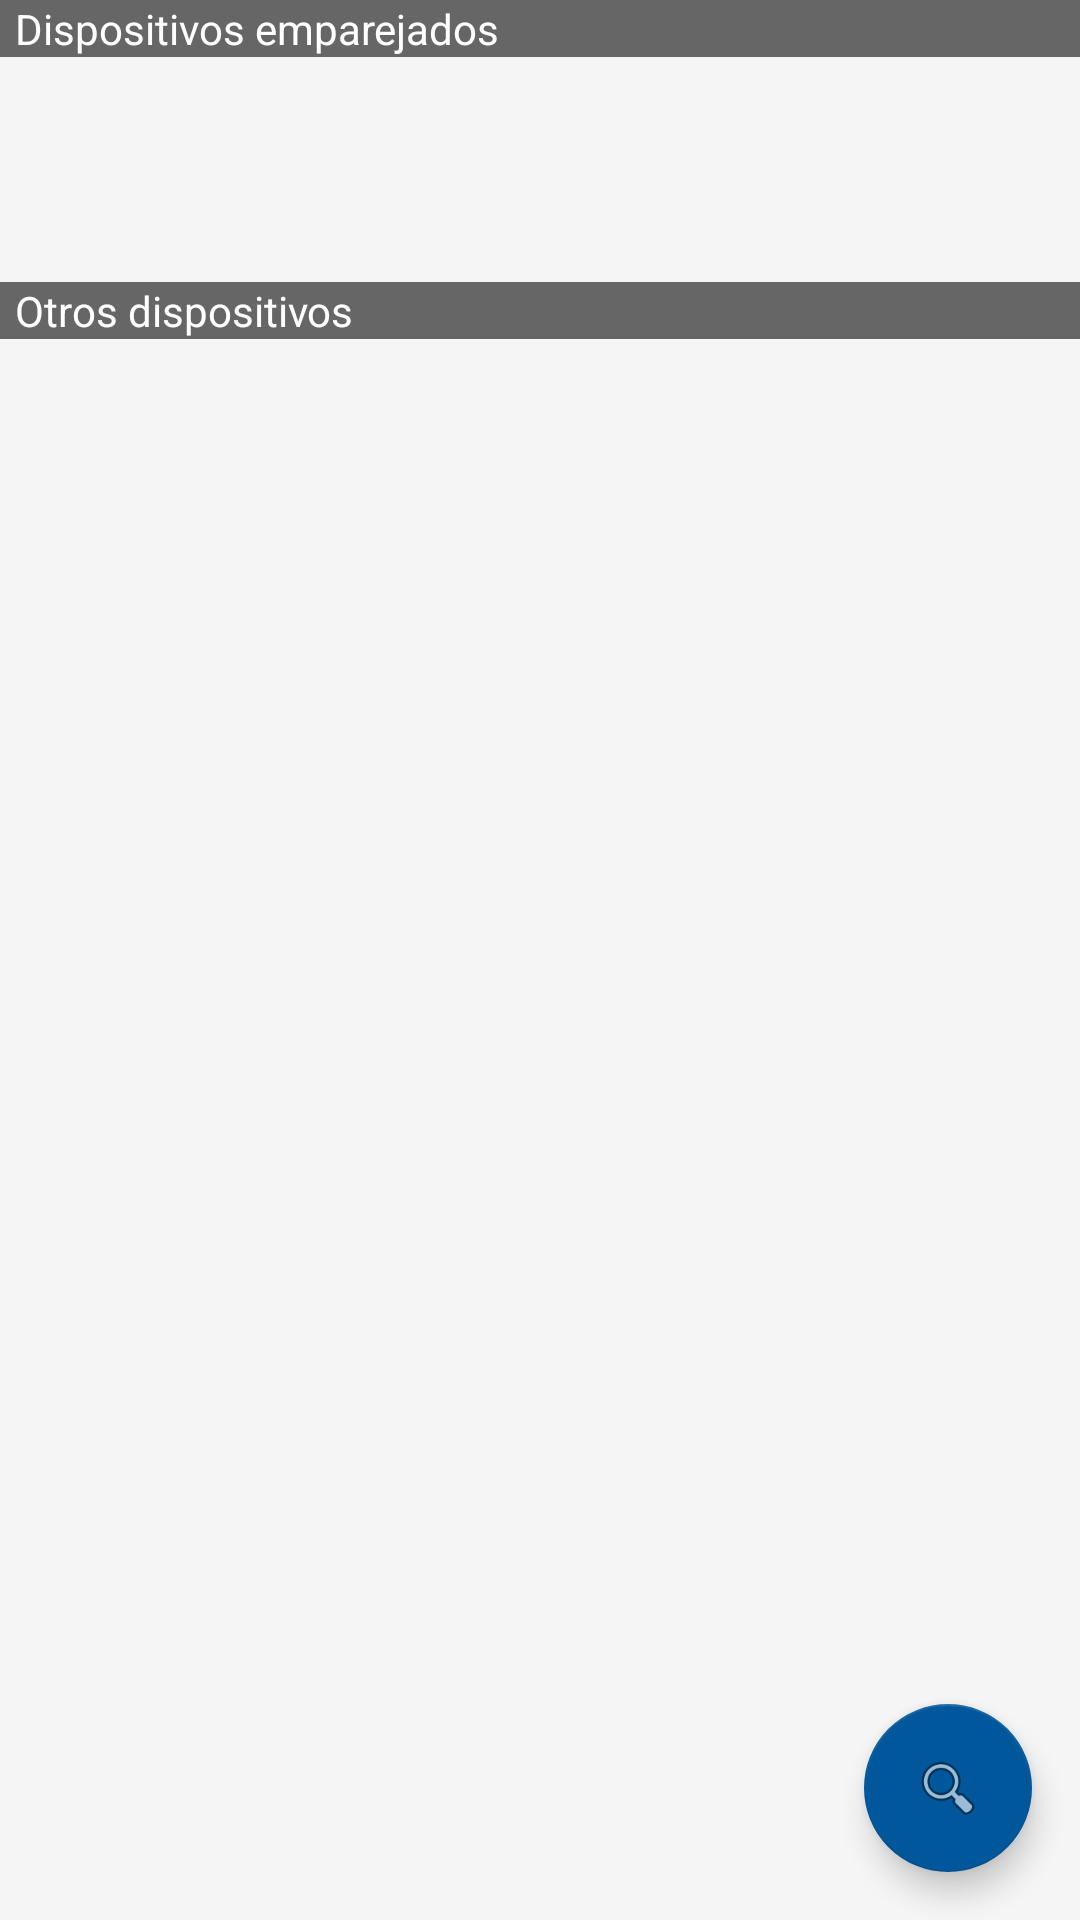

Where to tap for icons on this 1080 x 1920 app screen, as point (x, y):
search: point (948, 1788)
